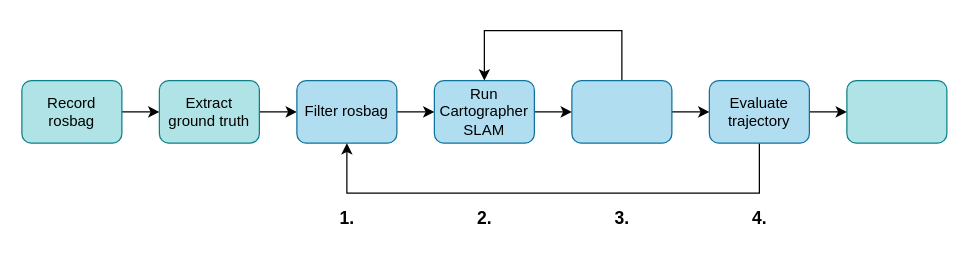
This 969x253 diagram has some shape labels left out. The centre of each missing label's shape, as x and y in pixels:
Compare SLAM setups: (896,111)
Tune Cartographer SLAM: (621,111)
